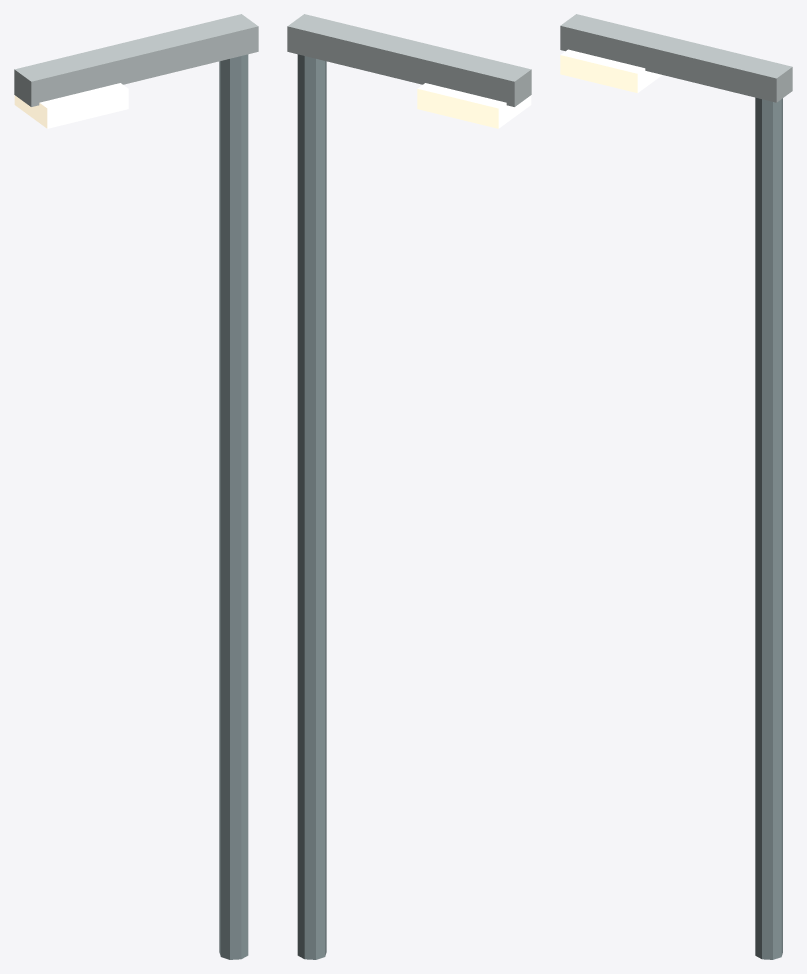
The model's file is remaster_streetlamp.glb.
3 views of the same model, side by side, from view 1: azimuth 30°, elevation 25°; view 2: azimuth 150°, elevation 25°; view 3: azimuth 330°, elevation 25° (orthographic). The views are drawn at different scales.
Parts seen in each view (by area): view 1: remaster_streetlamp roof, remaster_streetlamp metal, remaster_streetlamp warm; view 2: remaster_streetlamp roof, remaster_streetlamp metal, remaster_streetlamp warm; view 3: remaster_streetlamp roof, remaster_streetlamp metal, remaster_streetlamp warm.
Boxes of the visible parts, x1=… form: remaster_streetlamp roof: x1=219, y1=54, x2=248, y2=959; remaster_streetlamp metal: x1=14, y1=14, x2=258, y2=106; remaster_streetlamp warm: x1=14, y1=83, x2=128, y2=128; remaster_streetlamp roof: x1=297, y1=54, x2=326, y2=959; remaster_streetlamp metal: x1=287, y1=14, x2=531, y2=106; remaster_streetlamp warm: x1=417, y1=83, x2=531, y2=128; remaster_streetlamp roof: x1=755, y1=97, x2=782, y2=959; remaster_streetlamp metal: x1=560, y1=14, x2=792, y2=102; remaster_streetlamp warm: x1=560, y1=49, x2=661, y2=93.
Size of the model in its own units: 1.4 by 5.47 by 0.35.
